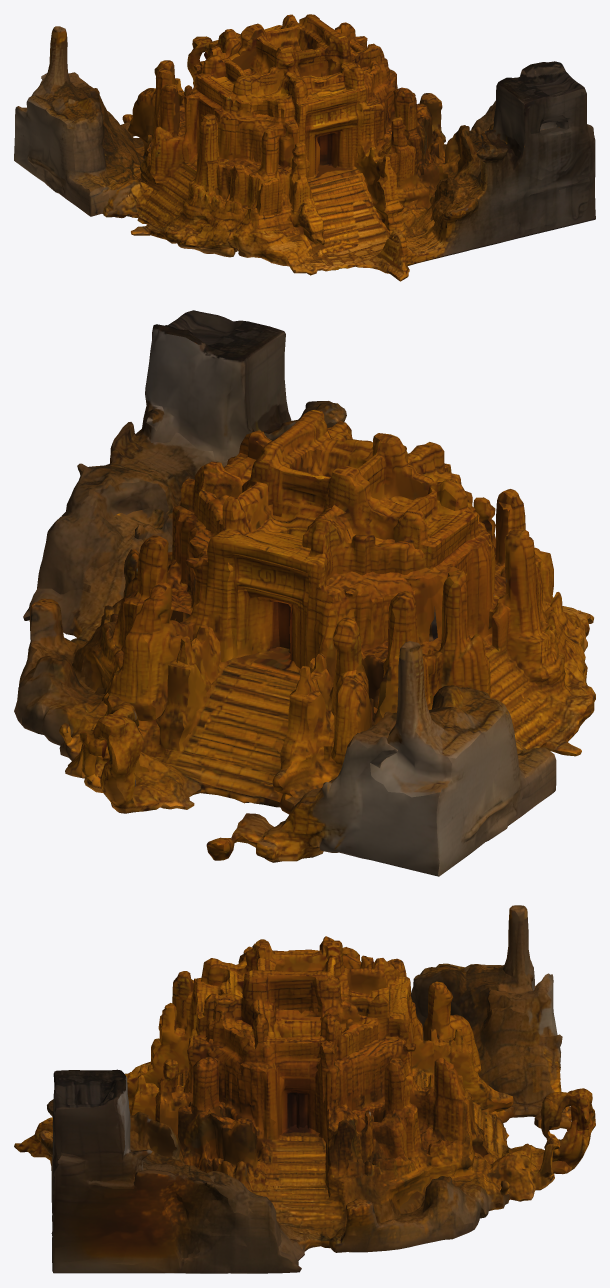
The model's file is small-shrine.glb.
3 views of the same model, one above another, from view 1: azimuth 30°, elevation 25°; view 2: azimuth 150°, elevation 25°; view 3: azimuth 270°, elevation 25° (orthographic). The views are drawn at different scales.
Parts seen in each view (by area): view 1: textured_mesh; view 2: textured_mesh; view 3: textured_mesh.
Boxes of the visible parts, x1,y1,x2,y2 form: textured_mesh: [14, 14, 595, 281]; textured_mesh: [14, 310, 595, 876]; textured_mesh: [14, 905, 595, 1273].
Bounding box in the file's own units: 1.82 × 0.81 × 1.99.
1 material, 1 textured.
